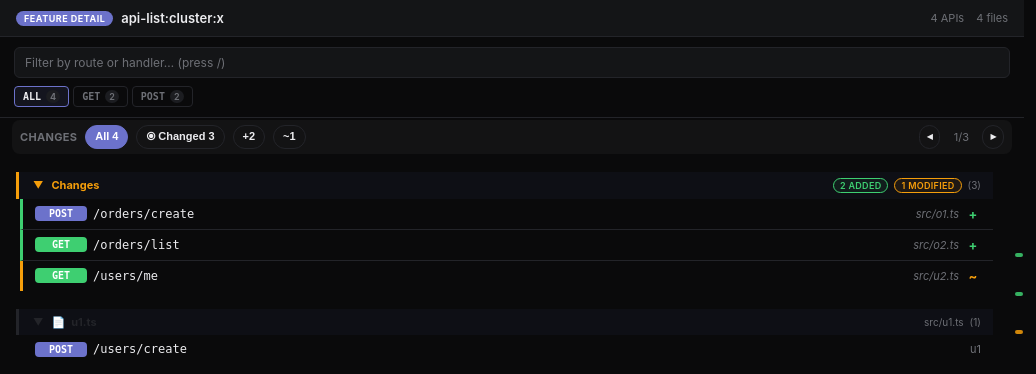
Test: ApiListPanel diff-focus bar › Changed filter hides the normal file-grouped section (only Changes group shows)
Expected: the text "/users/create" is shown, [93, 342, 187, 356]
Click the button "⦿ Changed 3": (180, 137) [136, 125, 224, 149]
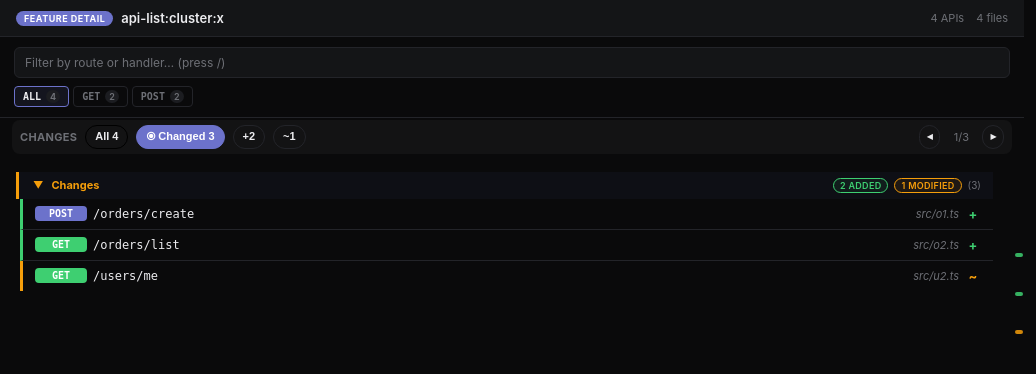
Expected: the text "/orders/create" is shown, [93, 207, 194, 221]
Now the button "/users/create" is gone
